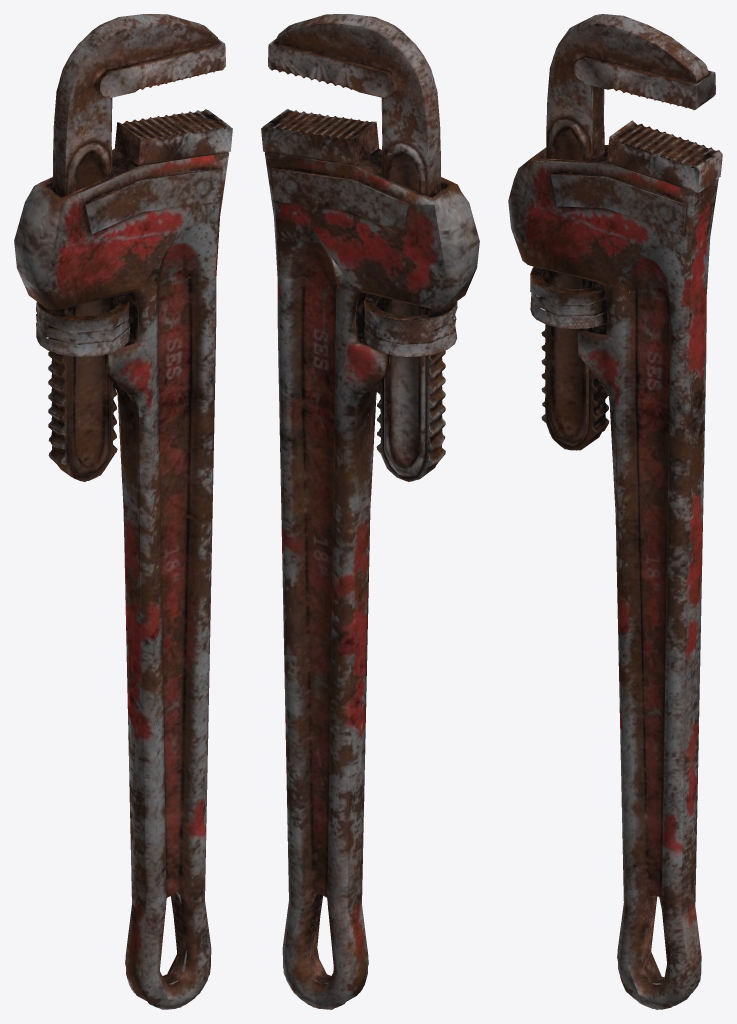
Rendered from pipe_wrench.gltf.
3 renders of one model, left to right at view 1: azimuth 30°, elevation 25°; view 2: azimuth 150°, elevation 25°; view 3: azimuth 330°, elevation 25°, orthographic.
Parts seen in each view (by area): view 1: pipe_wrench; view 2: pipe_wrench; view 3: pipe_wrench.
Part boxes in pixels (x1,y1,x2,y2): pipe_wrench: (14, 14, 232, 1009); pipe_wrench: (261, 14, 479, 1009); pipe_wrench: (508, 14, 722, 1009).
Size of the model in its own units: 0.0839 by 0.4053 by 0.0347.
1 material, 1 textured.
